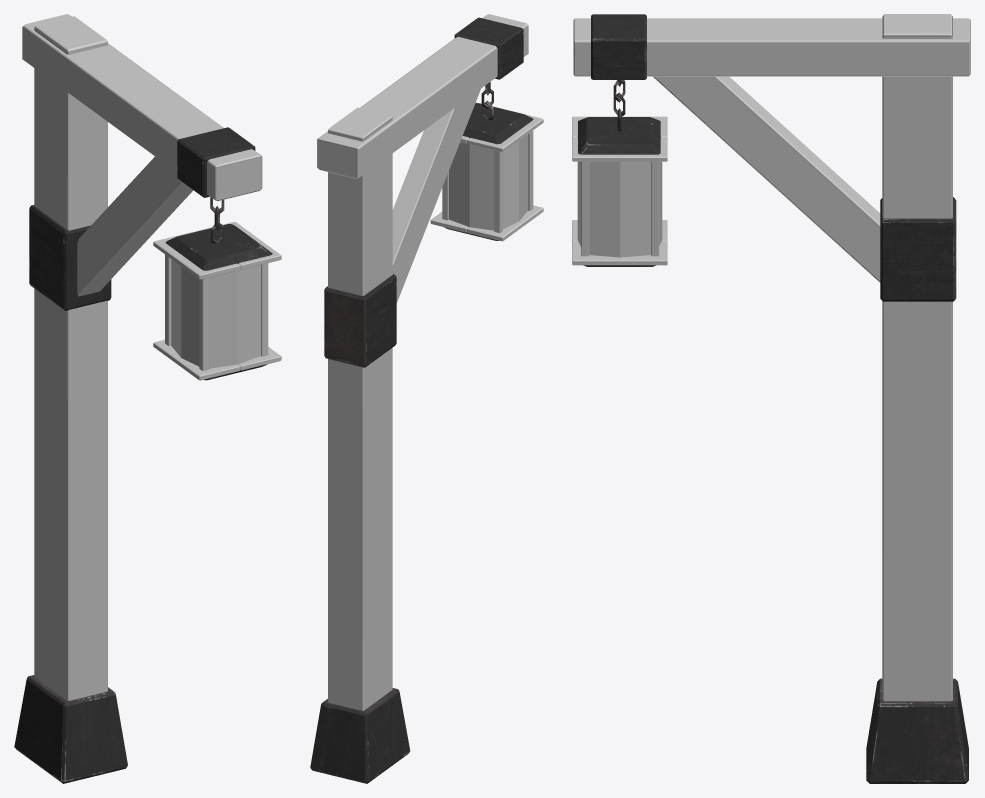
The model's file is Street_Lantern_1A3.FBX.
3 views of the same model, side by side, from view 1: azimuth 30°, elevation 25°; view 2: azimuth 150°, elevation 25°; view 3: azimuth 270°, elevation 25° (orthographic). The views are drawn at different scales.
Parts seen in each view (by area): view 1: Street_Lantern_1A1, Lantern; view 2: Street_Lantern_1A1, Lantern; view 3: Street_Lantern_1A1, Lantern.
Boxes of the visible parts, left/top/right/bottom form: Street_Lantern_1A1: left=14, top=14, right=262, bottom=783; Lantern: left=153, top=197, right=281, bottom=380; Street_Lantern_1A1: left=310, top=14, right=528, bottom=783; Lantern: left=430, top=82, right=543, bottom=241; Street_Lantern_1A1: left=573, top=14, right=970, bottom=783; Lantern: left=572, top=80, right=667, bottom=266.
Bounding box in the file's own units: 19.35 × 163 × 78.94.
